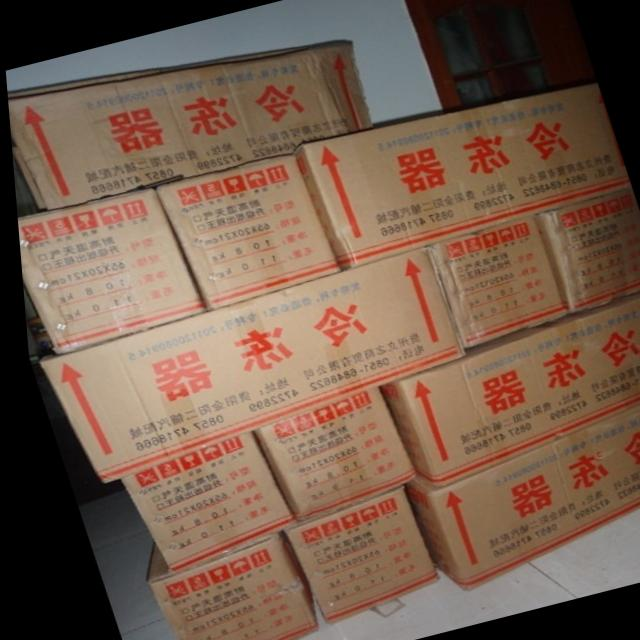box: (37, 245, 460, 482), (288, 78, 628, 270), (6, 34, 372, 212), (371, 283, 640, 484), (393, 399, 640, 588), (14, 187, 204, 354), (152, 155, 339, 308), (113, 430, 287, 569), (245, 389, 410, 522), (272, 485, 429, 622), (422, 213, 566, 352), (138, 527, 307, 640), (533, 188, 640, 309)
